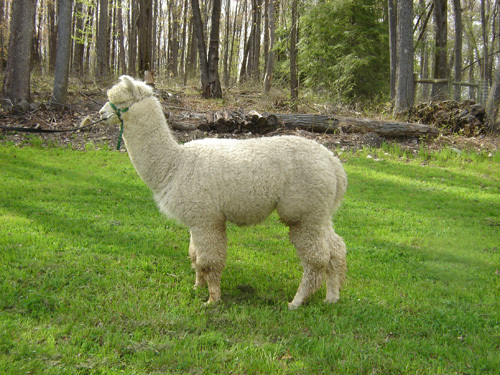alpaca: (98, 74, 349, 310)
